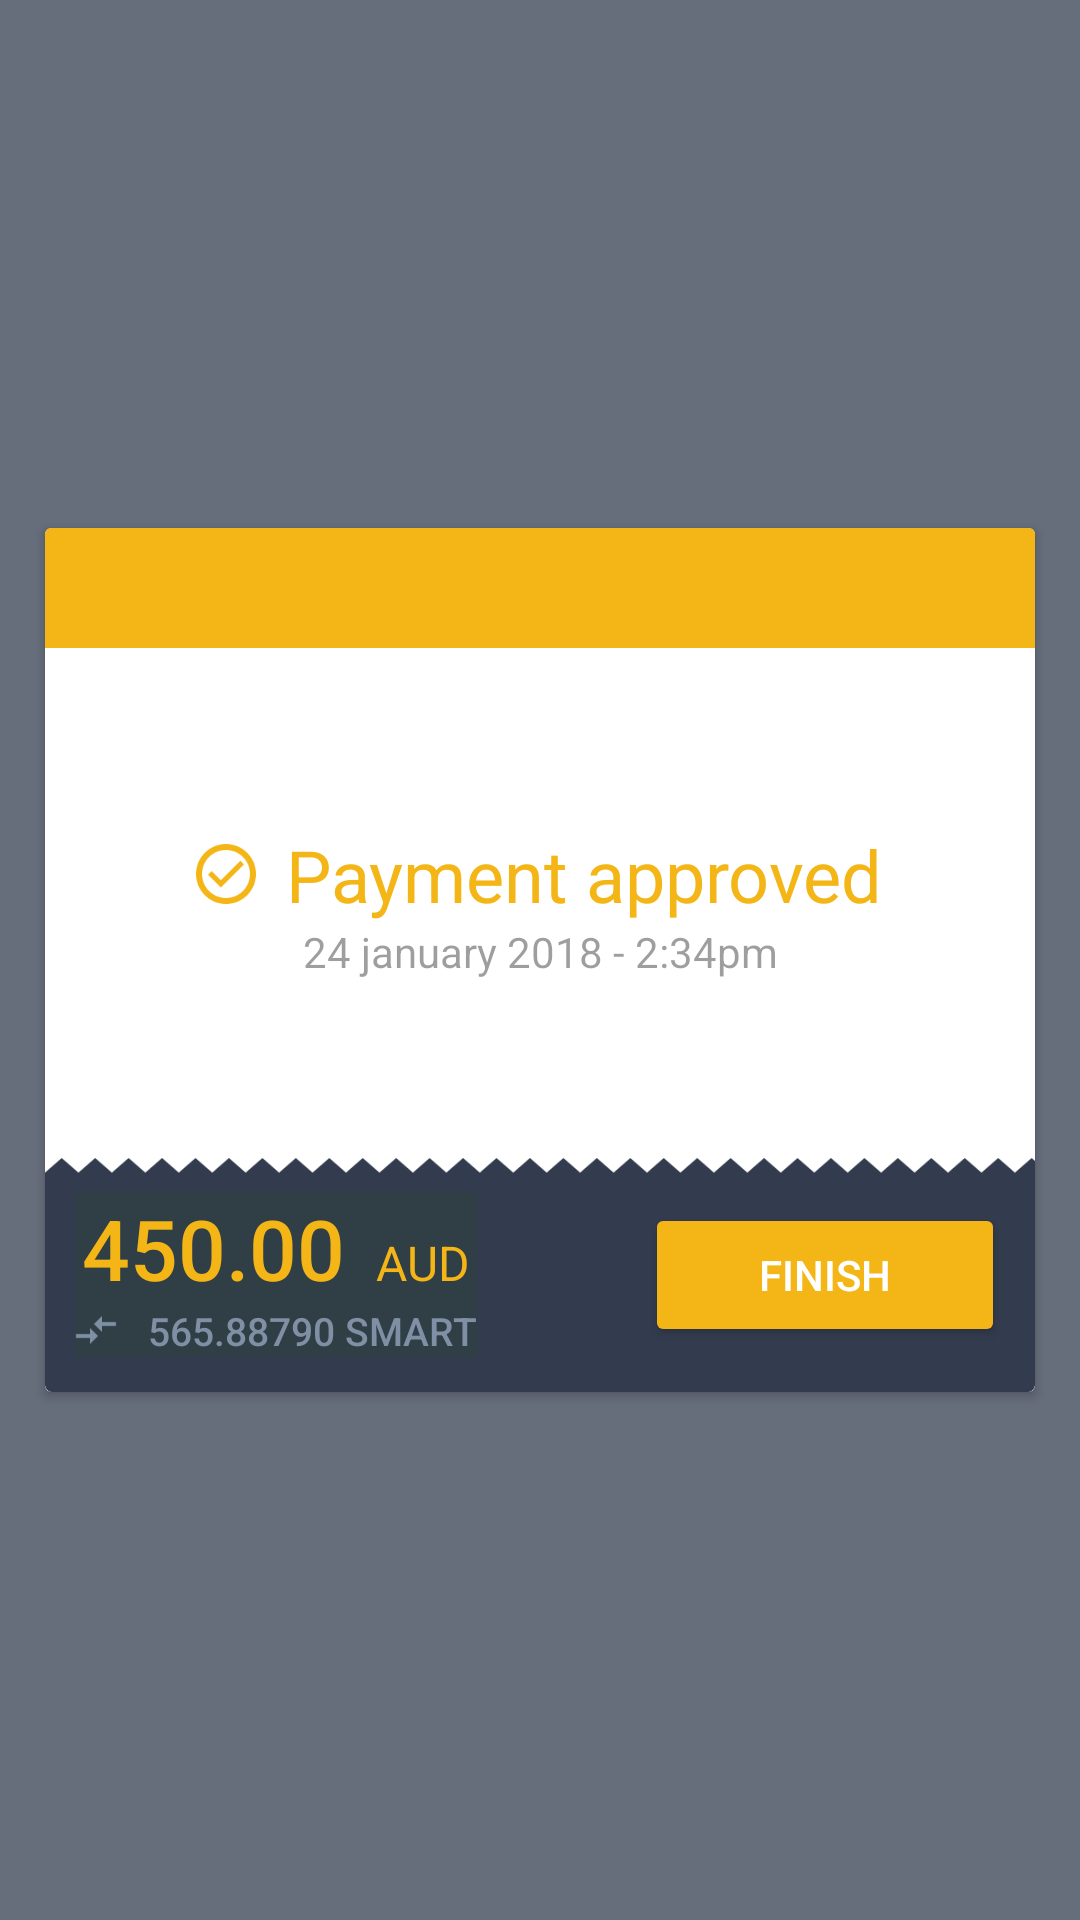

Locate icon controls on the screen. Image size 1080 × 1920, boxes as (x1, y1, x2, y2).
compare arrow: (76, 1316, 116, 1344)
